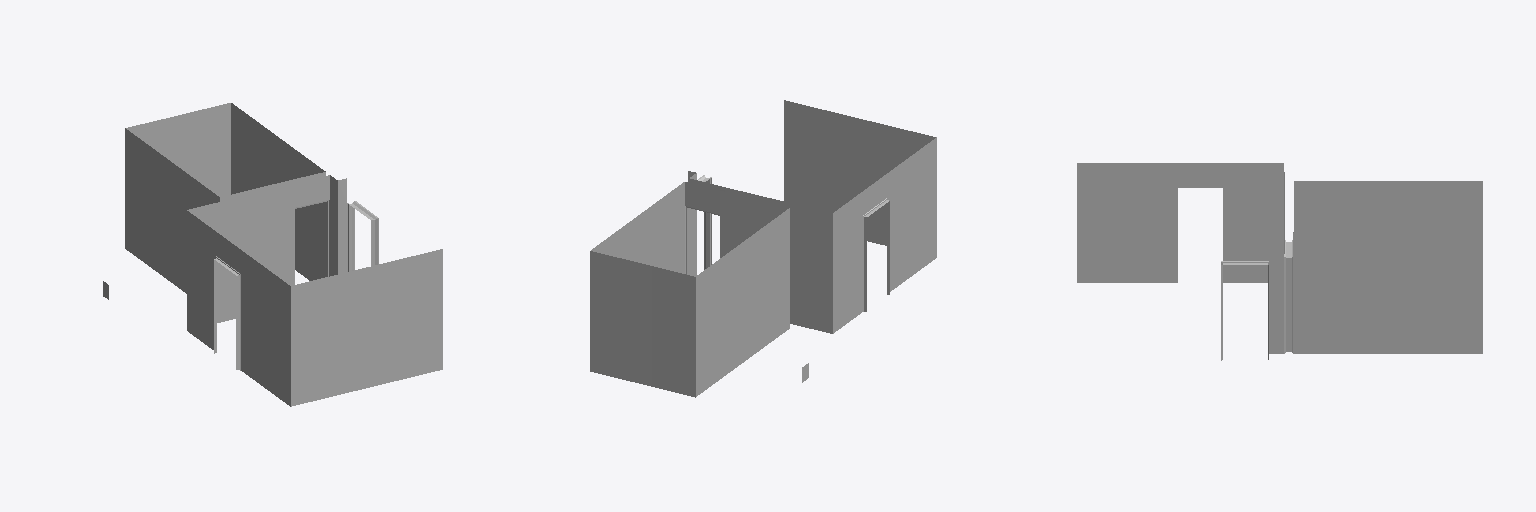
File: inner_wallinner1_wall1.obj
3 views of the same model, side by side, from view 1: azimuth 30°, elevation 25°; view 2: azimuth 150°, elevation 25°; view 3: azimuth 270°, elevation 25° (orthographic).
Parts seen in each view (by area): view 1: inner_wallinner1_wall1; view 2: inner_wallinner1_wall1; view 3: inner_wallinner1_wall1.
Part boxes in pixels (bbox=[...]): inner_wallinner1_wall1: bbox=[103, 103, 442, 406]; inner_wallinner1_wall1: bbox=[590, 100, 936, 397]; inner_wallinner1_wall1: bbox=[1077, 163, 1482, 360].
Size of the model in its own units: 442 by 273 by 829.